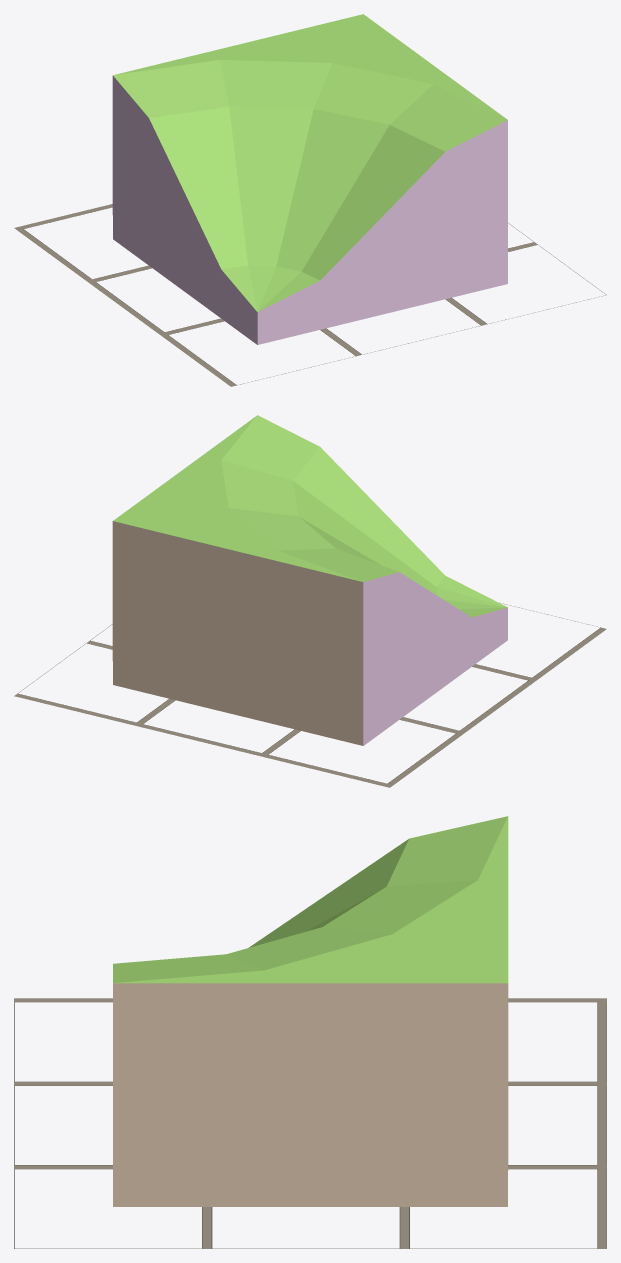
File: Grass_Hill_Sharp_Curve_Inner_2x2.glb
3 views of the same model, one above another, from view 1: azimuth 30°, elevation 25°; view 2: azimuth 150°, elevation 25°; view 3: azimuth 270°, elevation 25° (orthographic). The views are drawn at different scales.
Parts seen in each view (by area): view 1: Grass_Hill_Sharp_Curve_Inner_2x2, Floor; view 2: Grass_Hill_Sharp_Curve_Inner_2x2, Floor; view 3: Grass_Hill_Sharp_Curve_Inner_2x2, Floor.
Part boxes in pixels (x1,y1,x2,y2): Grass_Hill_Sharp_Curve_Inner_2x2: [112, 14, 507, 344]; Floor: [14, 204, 606, 386]; Grass_Hill_Sharp_Curve_Inner_2x2: [112, 415, 507, 745]; Floor: [14, 602, 606, 787]; Grass_Hill_Sharp_Curve_Inner_2x2: [113, 816, 508, 1206]; Floor: [14, 998, 606, 1248].
Bounding box in the file's own units: 300 × 125 × 300.
Materials: 5 (1 with a texture image).
